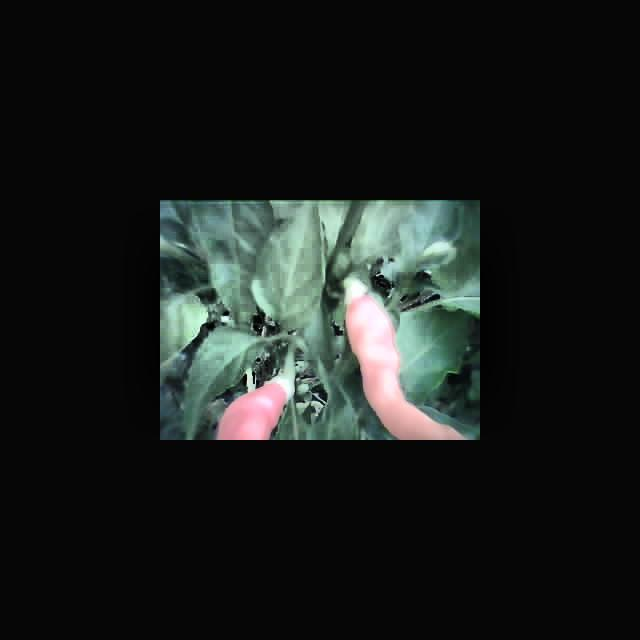Cabai: (344, 290, 440, 440), (214, 370, 291, 440)
